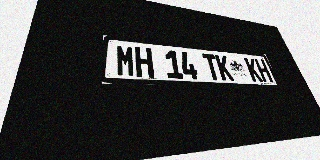1: (164, 49, 183, 79)
4: (179, 51, 199, 79)
H: (135, 46, 154, 78), (254, 59, 273, 82)
K: (214, 55, 234, 81), (244, 57, 263, 82)
M: (116, 45, 136, 77)
T: (202, 53, 222, 80)
